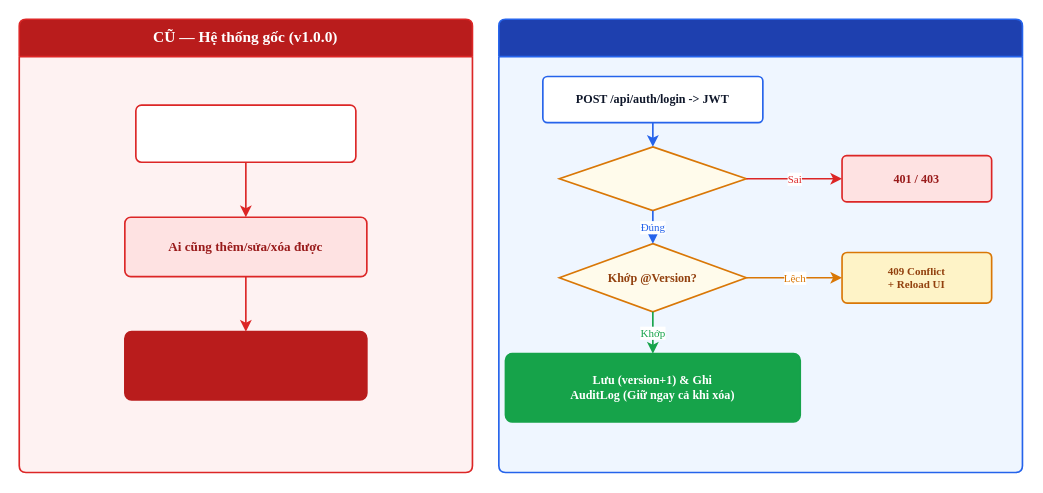
The diagram is 1043 pixels wide and 493 high, and some of its shapes have lost their labels. Here are the shapes that lost their labels. From the top down, the box of each, then its label:
(135, 104, 356, 163): Truy cập mở mọi API/UI
(558, 146, 747, 211): Token & Role OK?
(498, 18, 1023, 473): MỚI — Sau bảo trì (v1.1)
(124, 330, 367, 400): 2 phiên sửa đè im lặng & Không có Audit Log
